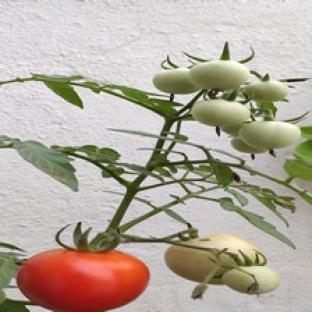Tomato: (17, 248, 149, 311), (165, 234, 264, 282), (190, 60, 250, 90), (239, 122, 300, 149), (222, 267, 279, 295), (191, 99, 250, 126), (154, 69, 197, 94), (244, 80, 288, 101), (232, 137, 267, 154)
